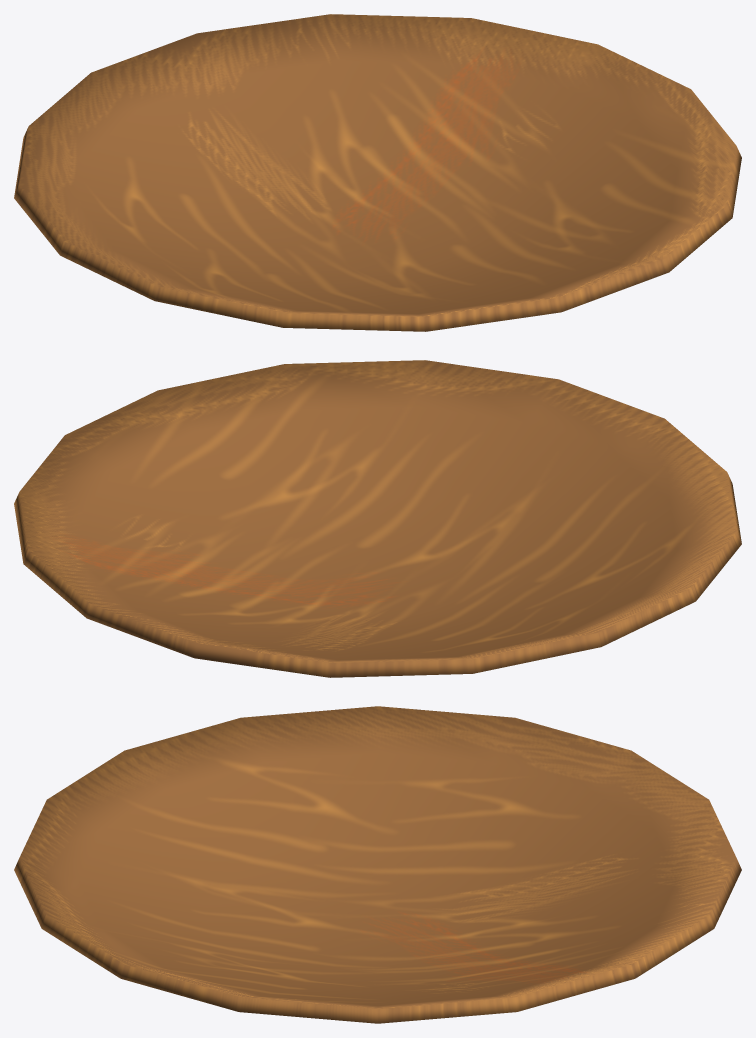
The model's file is Bol.fbx.
3 renders of one model, top to bottom at view 1: azimuth 30°, elevation 25°; view 2: azimuth 150°, elevation 25°; view 3: azimuth 270°, elevation 25°, orthographic.
Parts seen in each view (by area): view 1: Panier; view 2: Panier; view 3: Panier.
Boxes of the visible parts, bbox=[...] form: Panier: bbox=[14, 14, 741, 331]; Panier: bbox=[14, 360, 741, 677]; Panier: bbox=[14, 706, 741, 1023].
Size of the model in its own units: 2 by 0.2483 by 2.
1 material, 1 textured.
